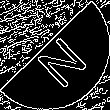N_NW: (23, 23, 87, 87)
